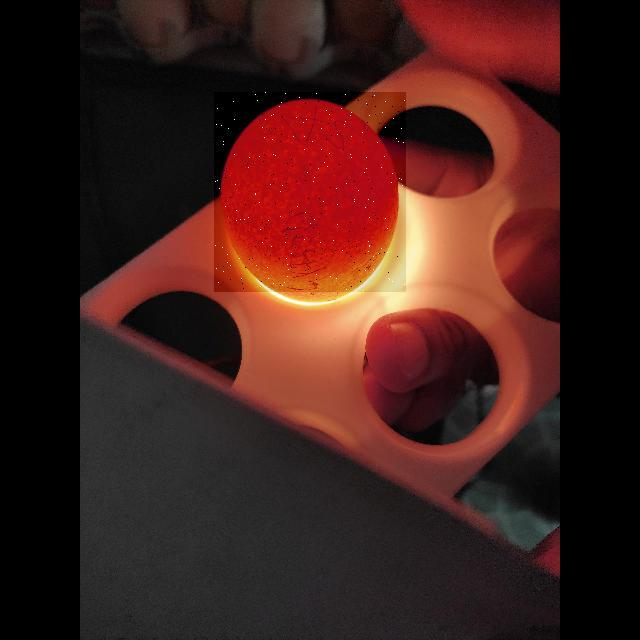Infertile: (214, 92, 406, 292)
